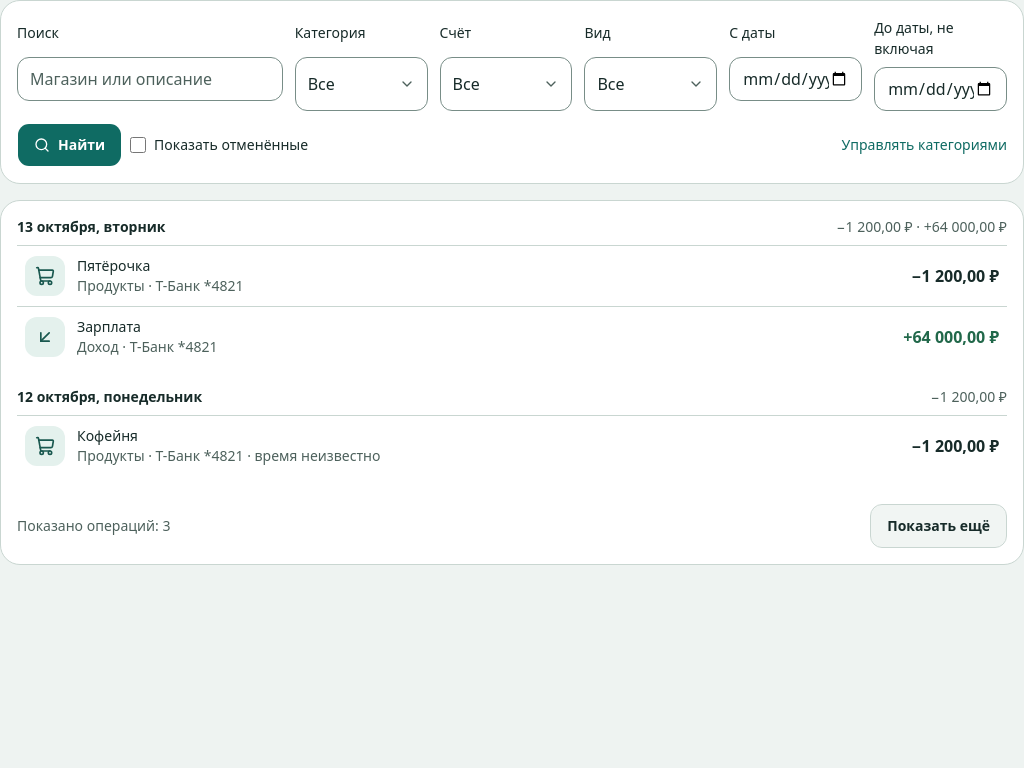
Test: SPEC-0043 operations list › loads the next page by cursor
The image size is (1024, 768).
What coordinates should you click on to do the following:
click the button "Показать ещё"
I would click on:
 (939, 526)
Its box is [870,504,1007,548].
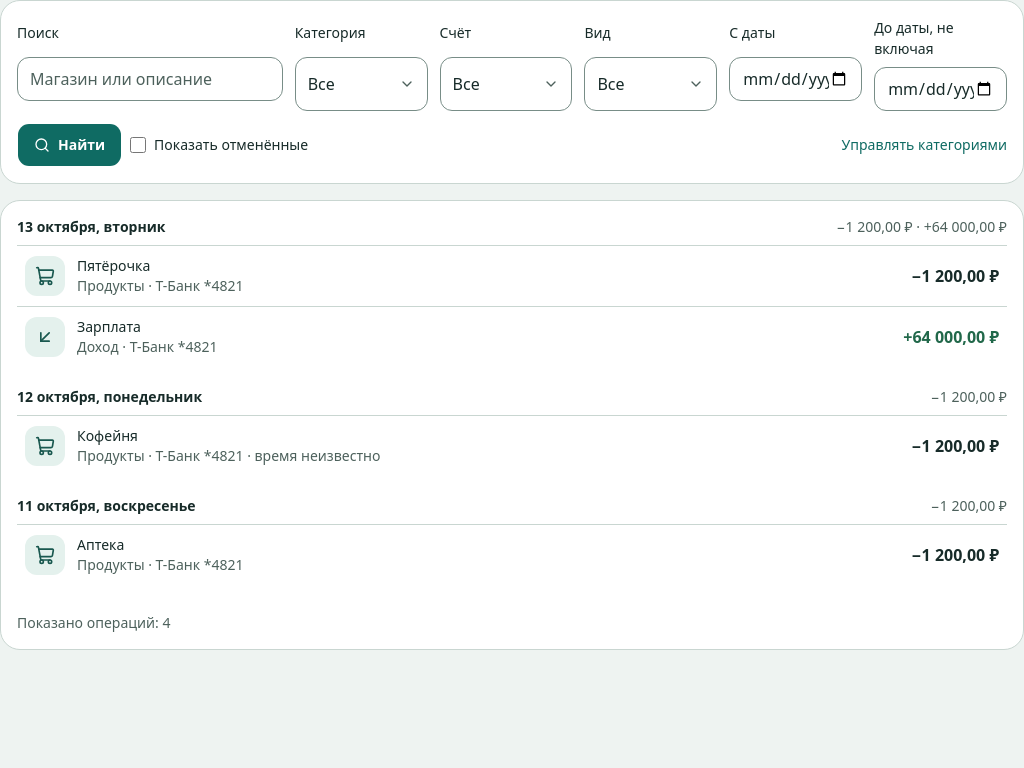
expect the button "Аптека Продукты · Т-Банк *4821 −1 200,00 ₽" is shown: met, box [17,525,1007,585]
expect the button "Показать ещё" is gone: met
expect the text "Показано операций: 4" is shown: met, box [17,613,170,633]
